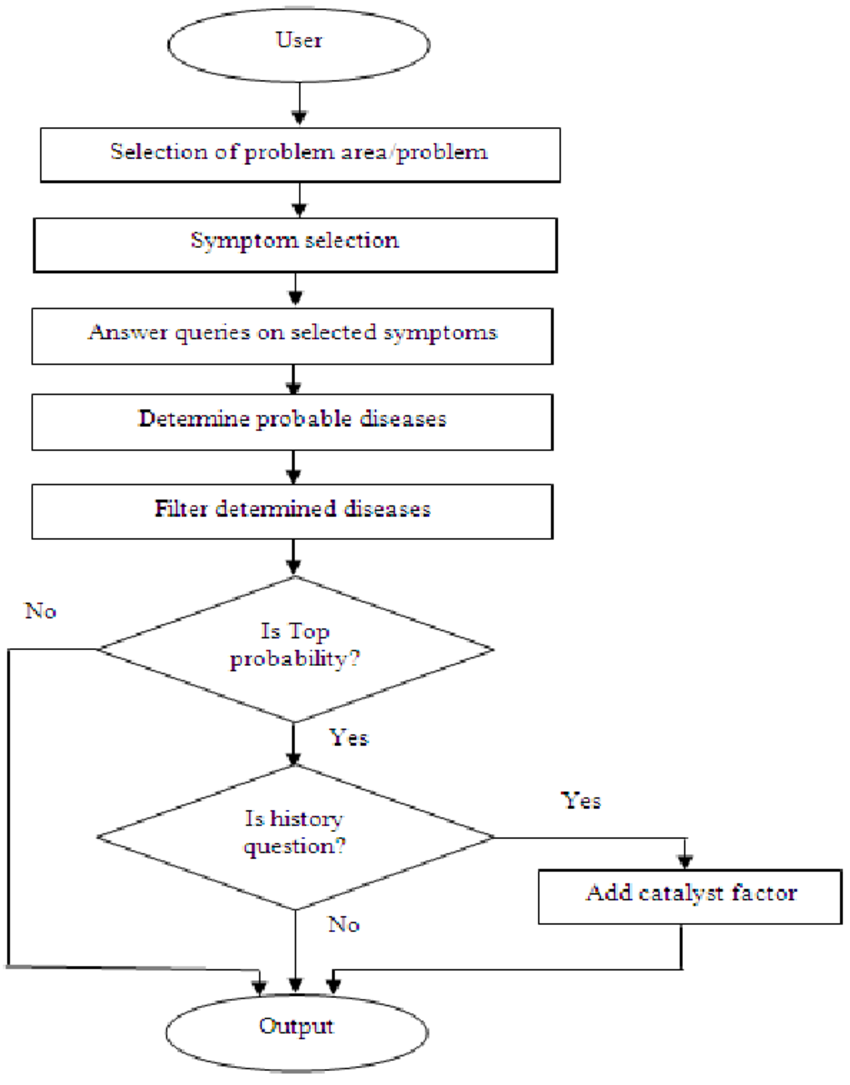arrow: (2, 643, 271, 999), (320, 920, 691, 994), (489, 832, 697, 869), (284, 906, 310, 997), (286, 78, 315, 127), (283, 715, 310, 766), (281, 533, 309, 578), (284, 260, 307, 306), (279, 447, 306, 484), (281, 360, 307, 397), (291, 176, 312, 220)
decision: (91, 761, 501, 914), (97, 573, 499, 725)
process: (27, 301, 558, 369), (27, 478, 560, 545), (29, 212, 565, 278), (35, 122, 568, 188), (27, 389, 558, 453), (530, 863, 848, 929)
terminator: (163, 988, 432, 1077), (163, 4, 435, 88)
text: (81, 319, 502, 350), (107, 138, 494, 166), (135, 402, 453, 432), (227, 615, 363, 674), (150, 494, 435, 522), (583, 879, 801, 909), (238, 806, 348, 865), (188, 227, 406, 255), (256, 1010, 337, 1038), (273, 24, 329, 50), (325, 720, 371, 750), (558, 786, 604, 814), (20, 597, 60, 622), (325, 912, 363, 935)
